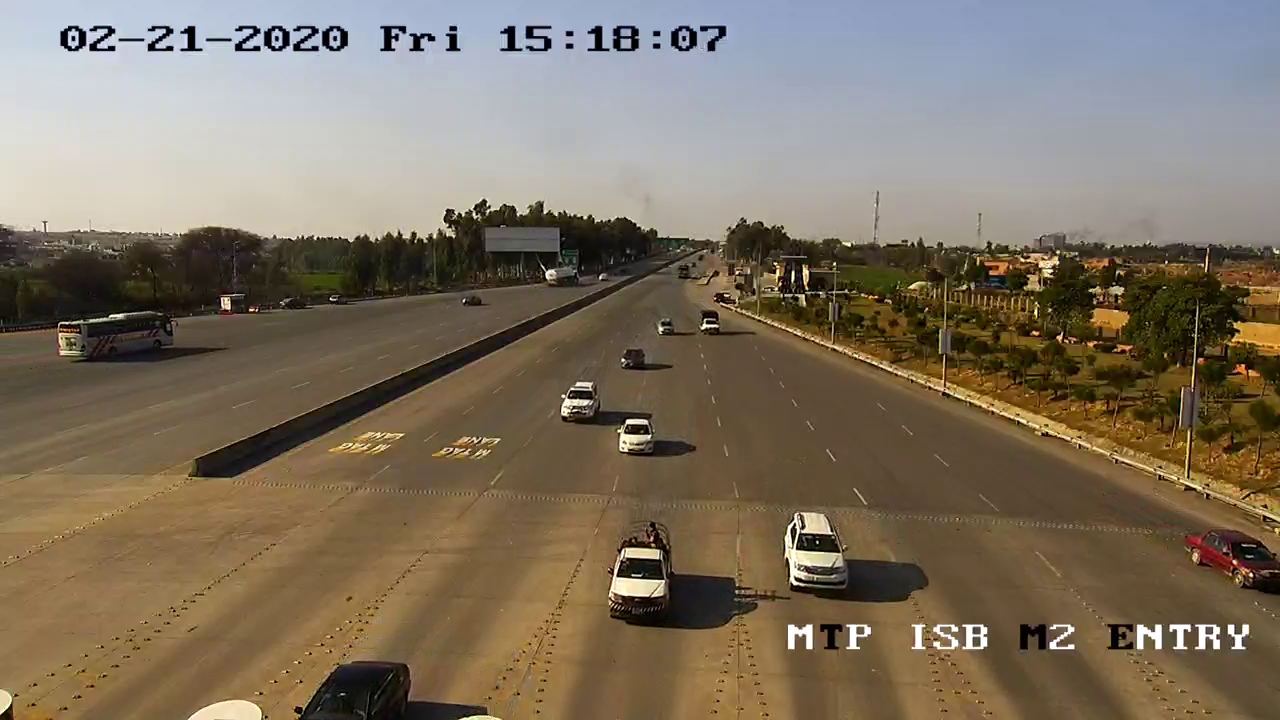f1: (600, 514, 687, 637), (775, 504, 856, 608), (555, 370, 608, 433), (613, 409, 668, 464)
